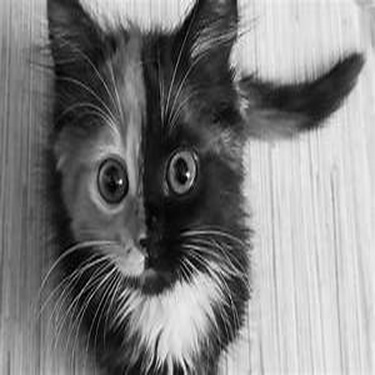cat: (40, 2, 368, 373)
